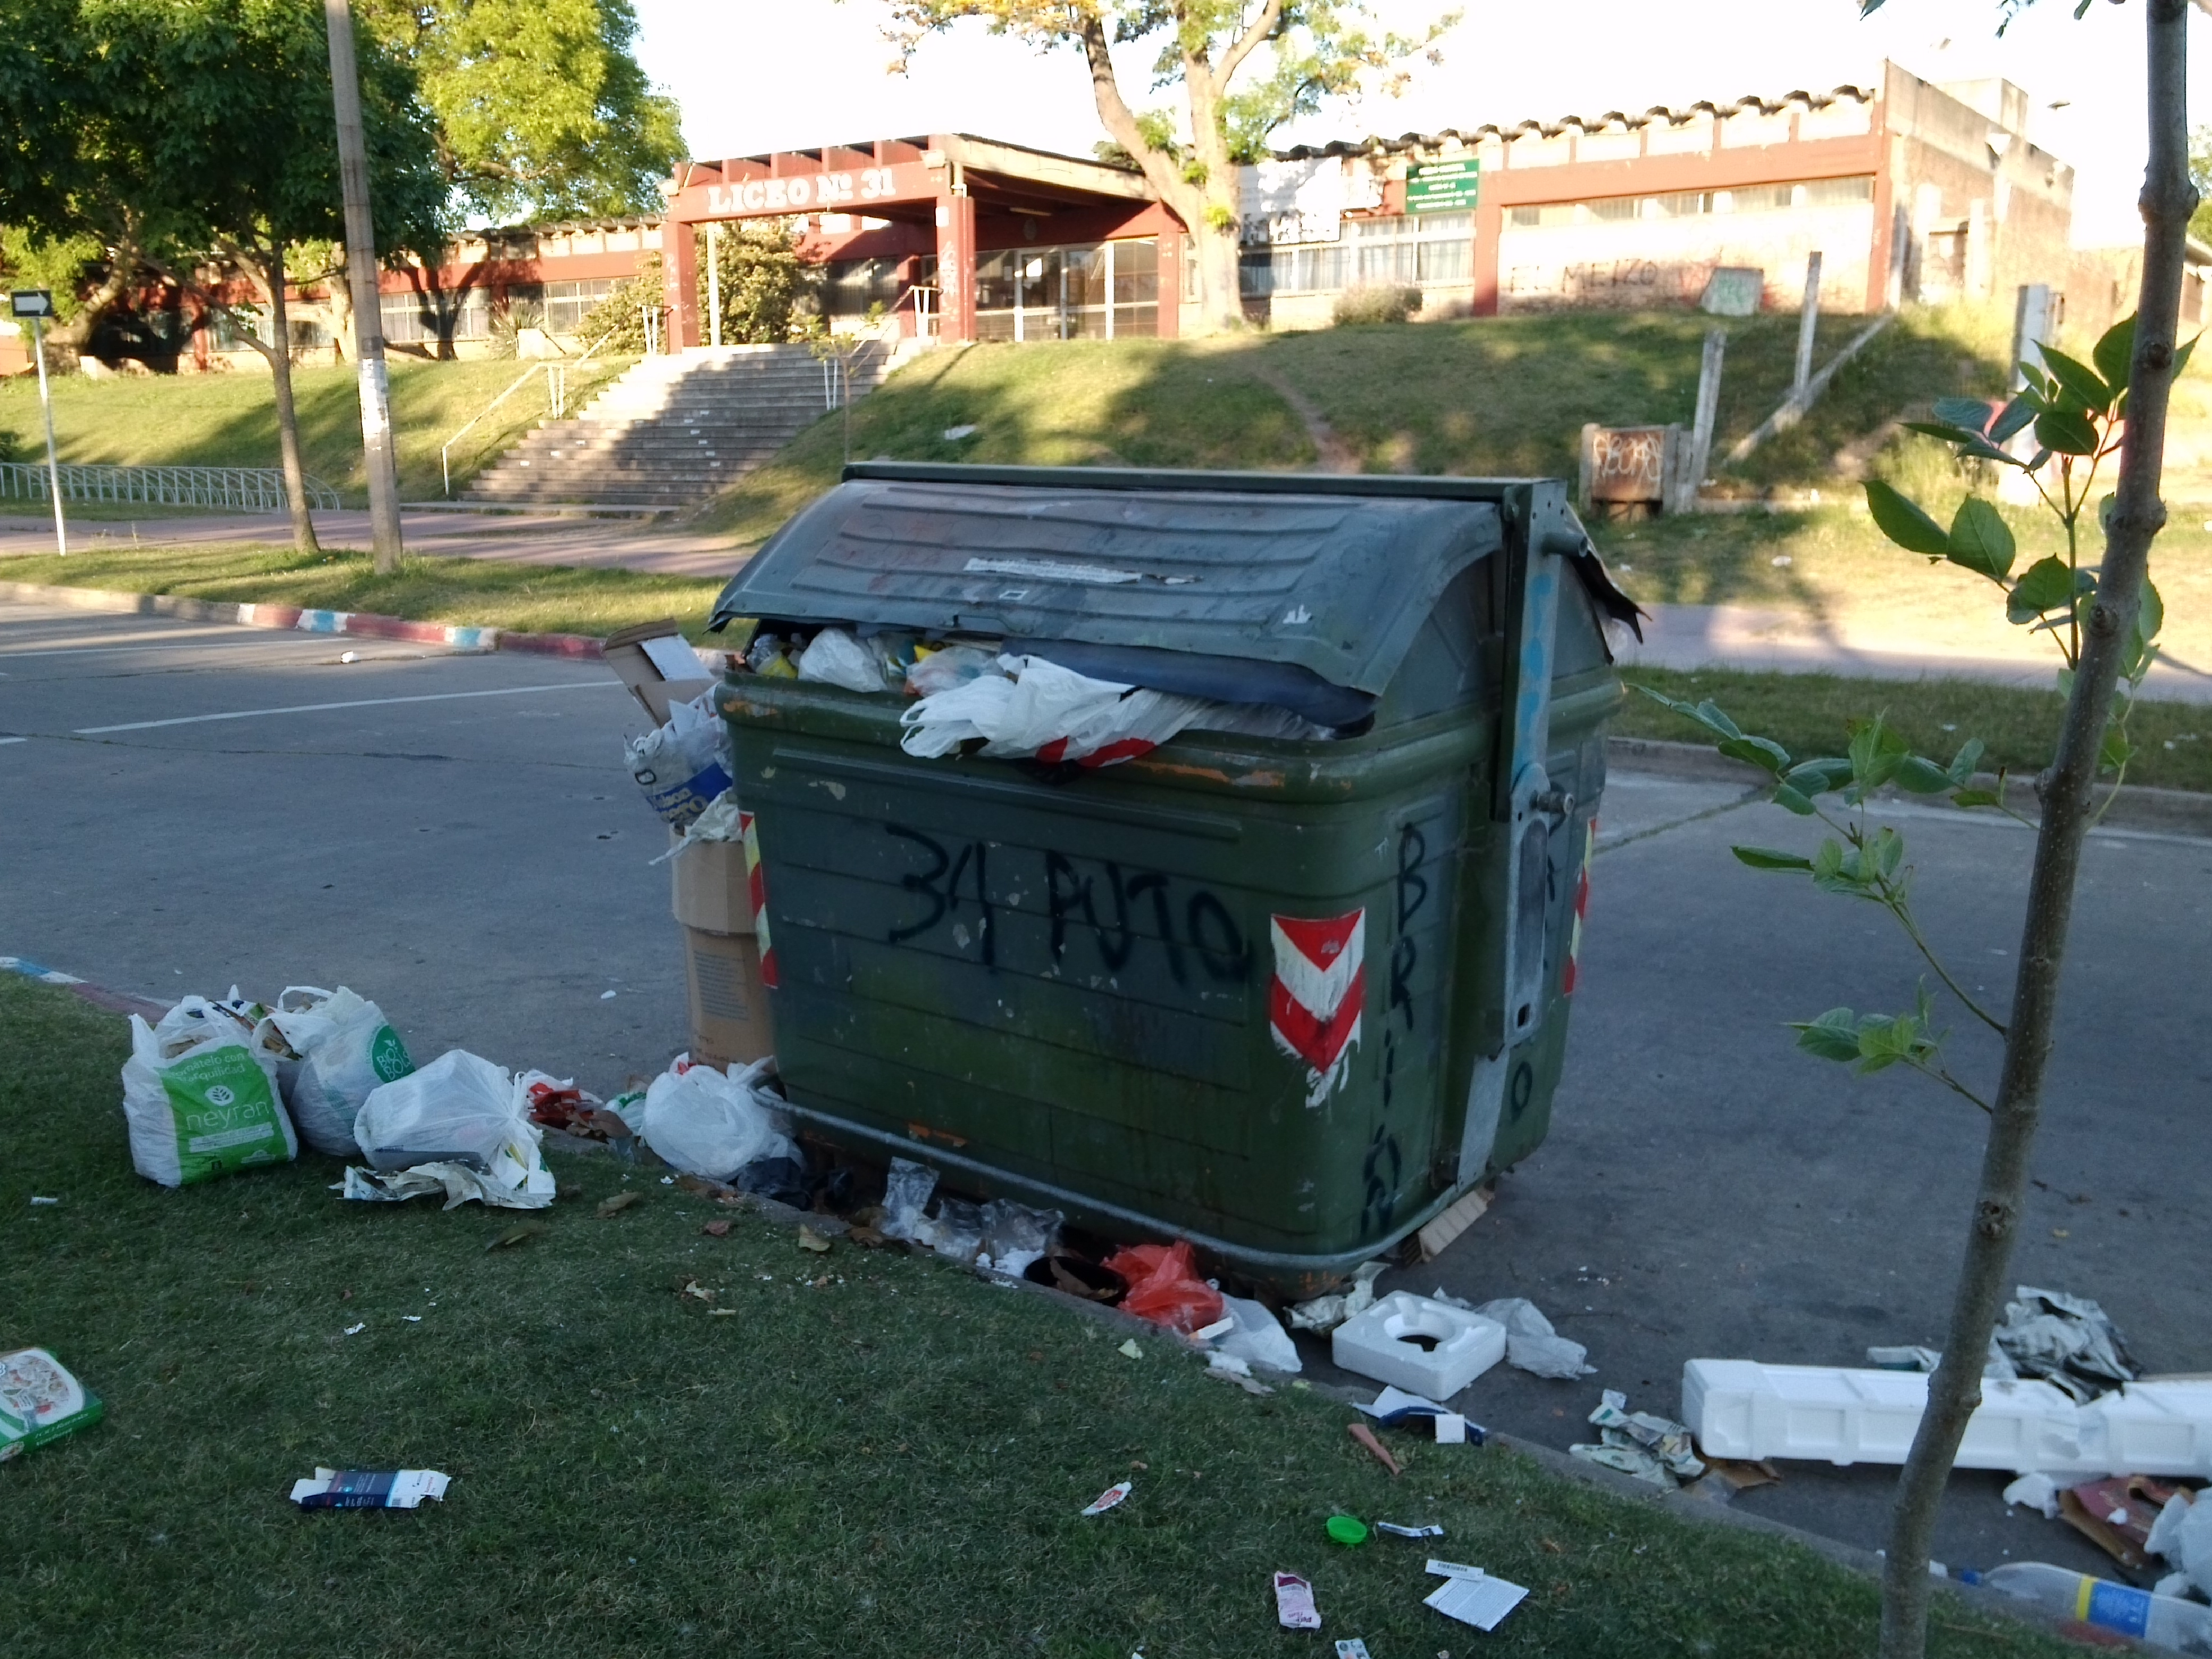container: (711, 450, 1667, 1312)
